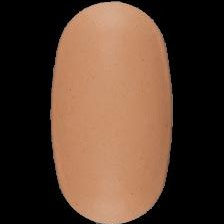33261-641: (0, 0, 224, 224)
